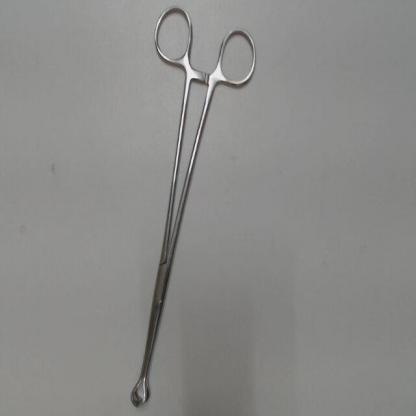8 Babcock Tissue Forceps: (126, 0, 266, 413)
